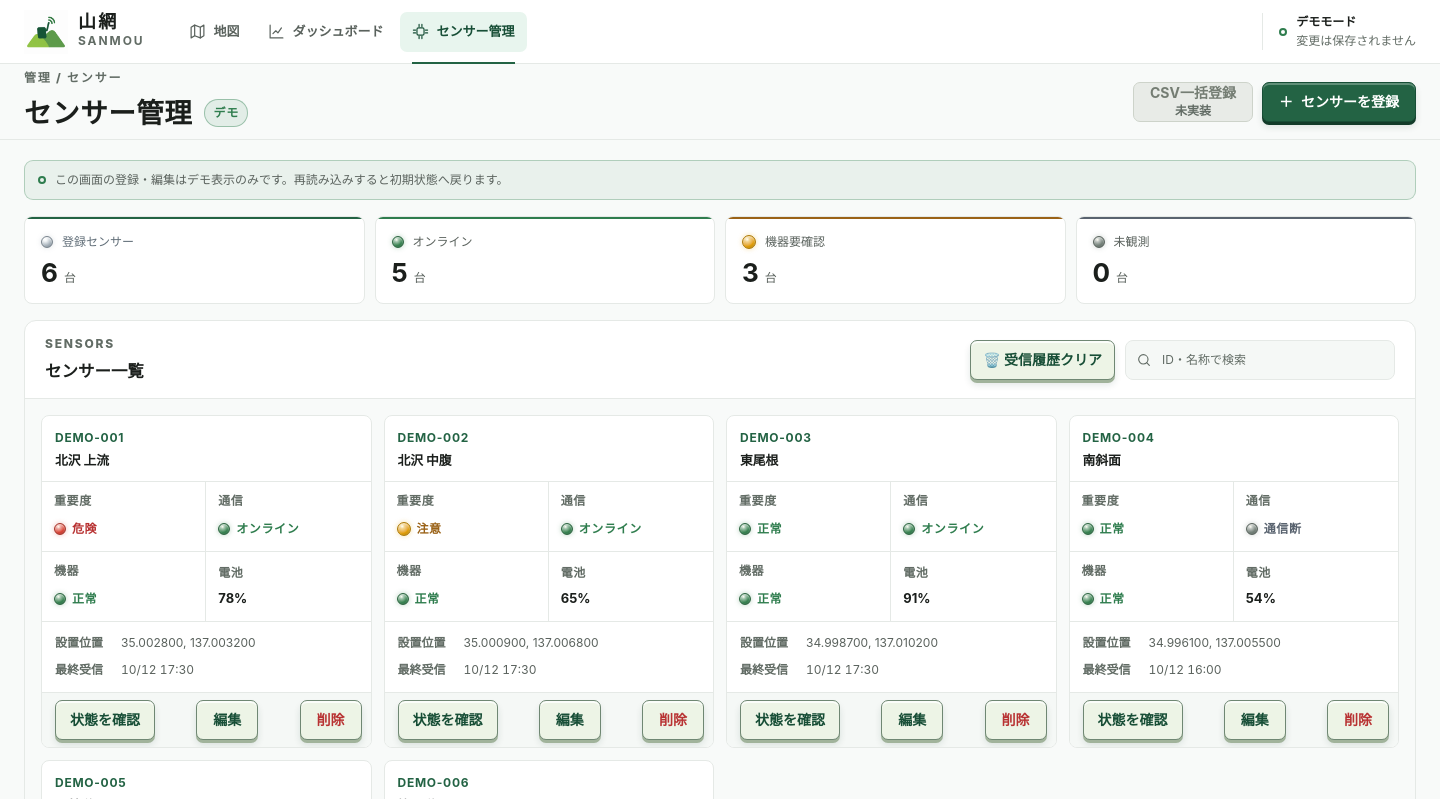
SensorManagement › センサーIDで一覧を絞り込む
Type "DEMO-002" into the search field named "センサーを検索" at (1272, 360), box [1160,350,1384,370]
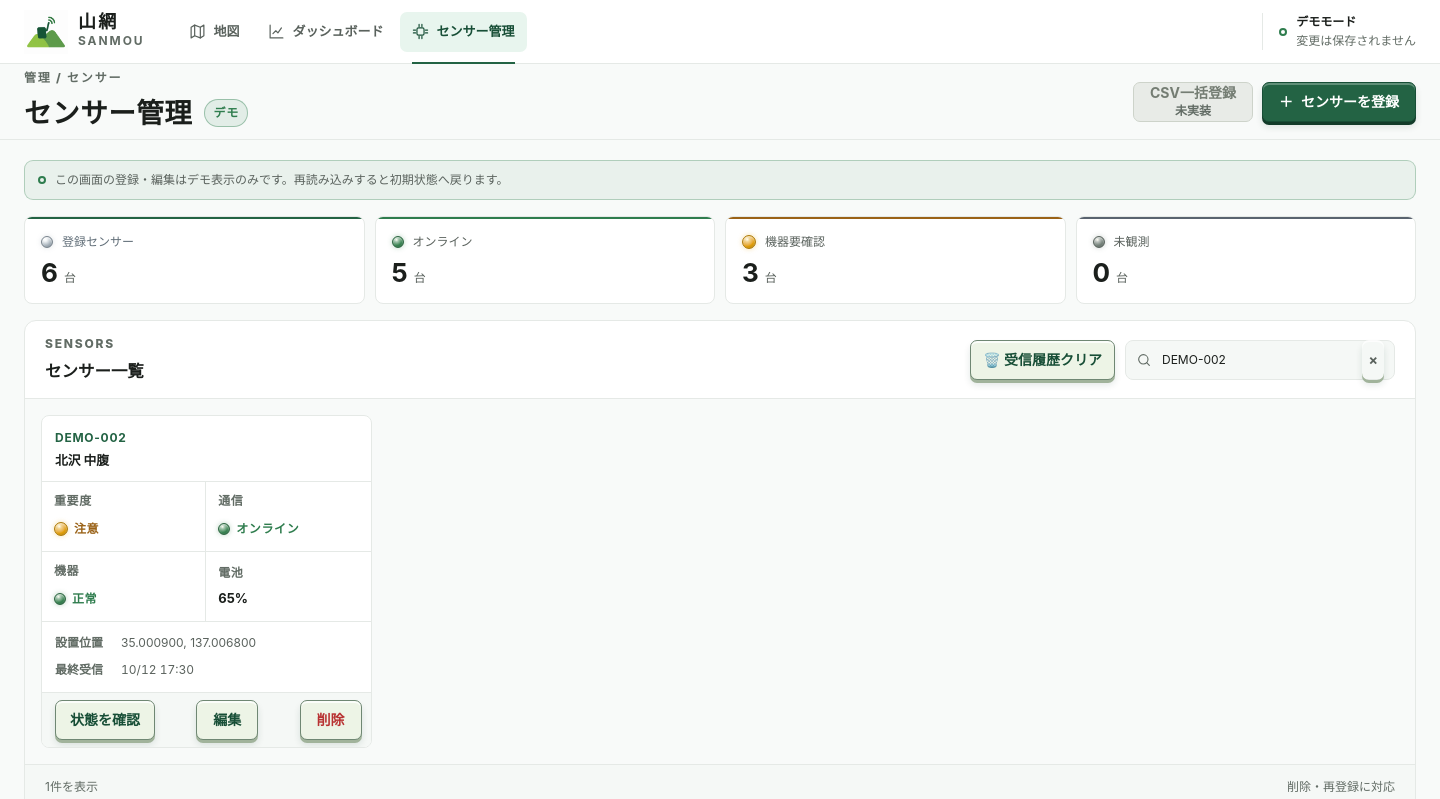
Expected: the text "DEMO-002" is shown, [55,429,126,447]
Now the text "1件を表示" is shown, box [45,778,98,796]
Now the text "DEMO-003" is gone
